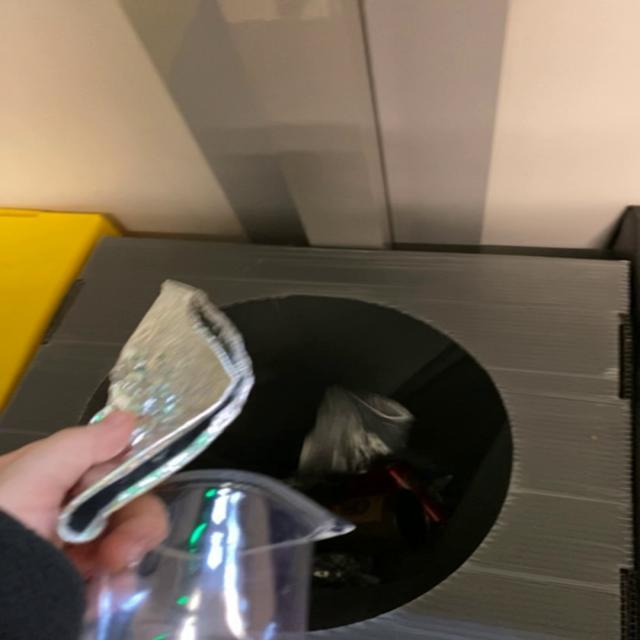bin: (1, 237, 632, 640)
metal: (56, 280, 253, 544), (297, 386, 413, 477)
